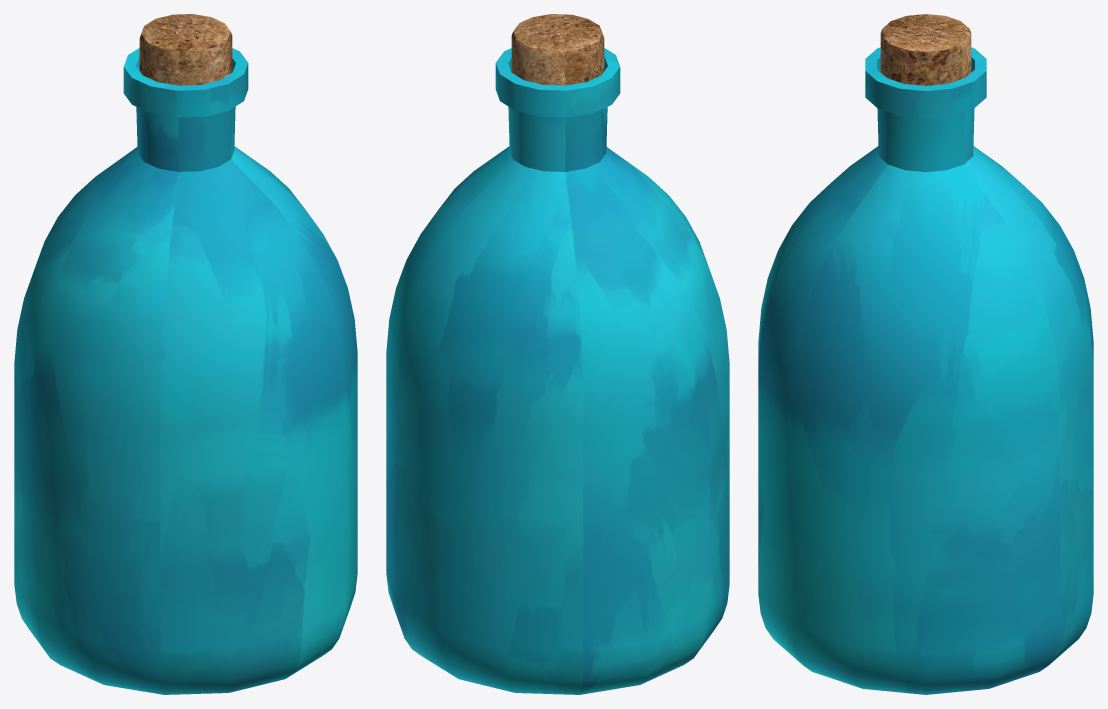
The model's file is House_Bottle01_v01.fbx.
The picture shows the model from 3 angles, left to right: view 1: azimuth 30°, elevation 25°; view 2: azimuth 150°, elevation 25°; view 3: azimuth 270°, elevation 25°; orthographic projection.
Visible parts, largest first — view 1: BottleBody_01, BottleCap_01; view 2: BottleBody_01, BottleCap_01; view 3: BottleBody_01, BottleCap_01.
Boxes of the visible parts, box(x1,y1,x2,y2) form: BottleBody_01: box(14, 48, 357, 694); BottleCap_01: box(139, 14, 232, 85); BottleBody_01: box(386, 48, 729, 694); BottleCap_01: box(511, 14, 604, 85); BottleBody_01: box(758, 47, 1093, 694); BottleCap_01: box(880, 14, 971, 85).
Size of the model in its own units: 5.8 by 5.65 by 11.36.
2 materials, 2 textured.
